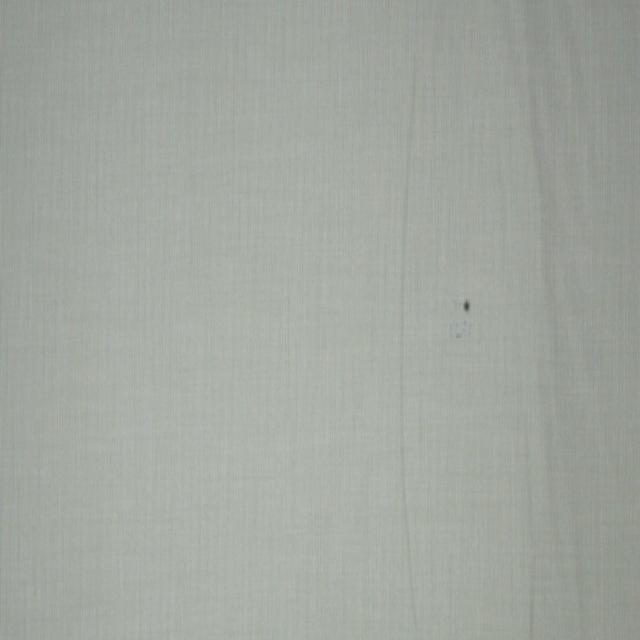dirty: (461, 297, 471, 315)
